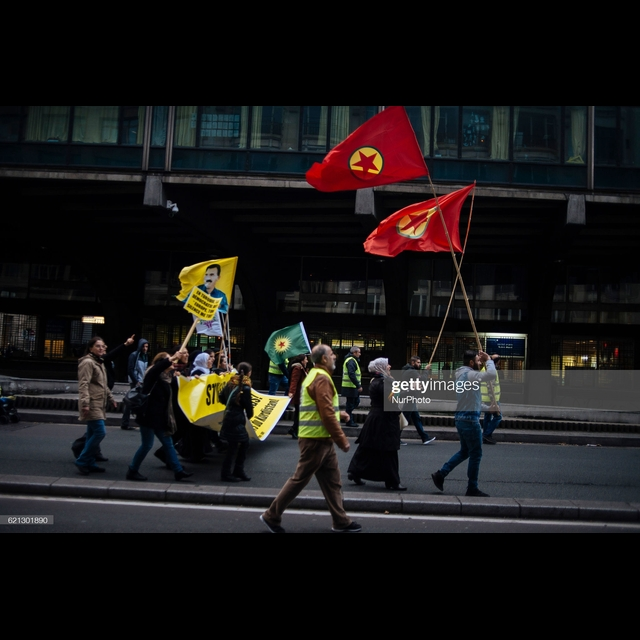APO: (199, 265, 224, 288)
KCK: (269, 335, 295, 354)
PKK: (344, 141, 387, 182)
